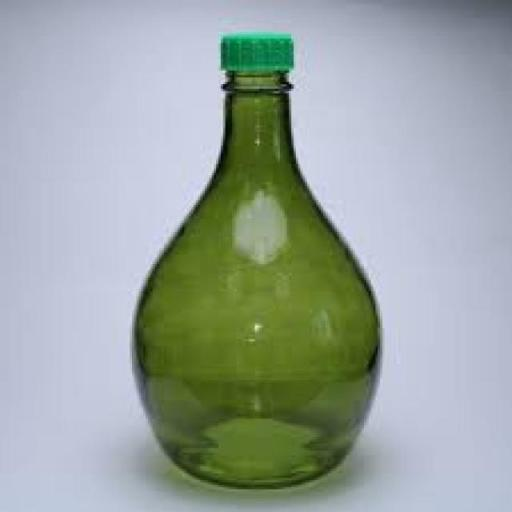glass: (106, 40, 414, 494)
